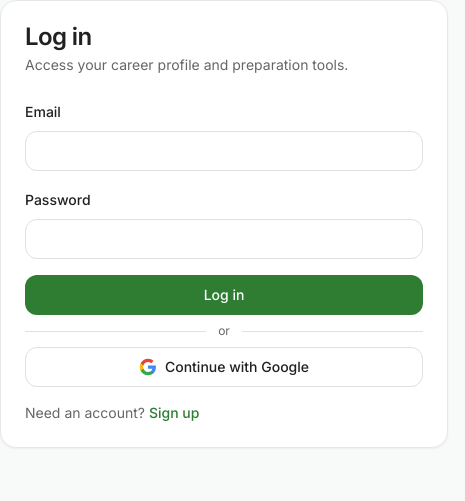
Scenario: LoginForm › shows authentication error from Supabase
Type "jane@example.com" into the field labelled "Email" at {"x": 224, "y": 151}, box [25,131,423,171]
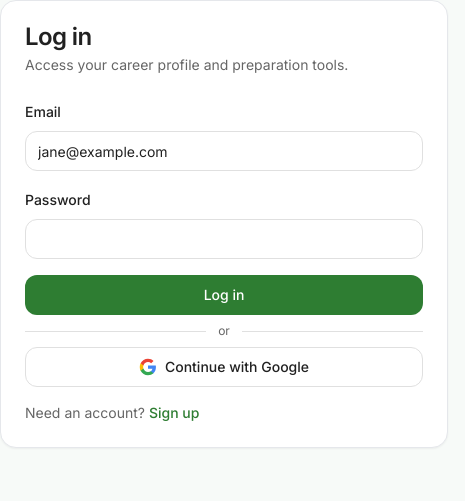
Type "password123" into the password field labelled "Password" at {"x": 224, "y": 239}, box [25,219,423,259]
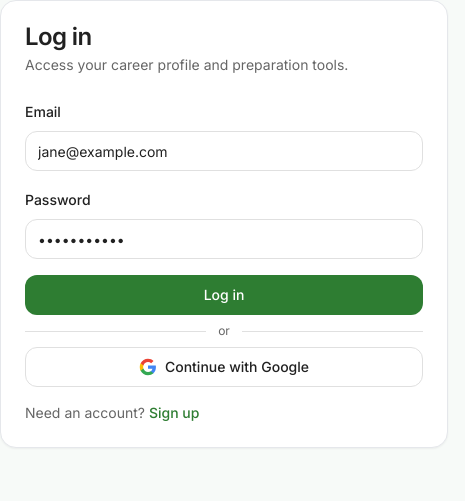
Click the button "Log in" at {"x": 224, "y": 295}, box [25,275,423,315]
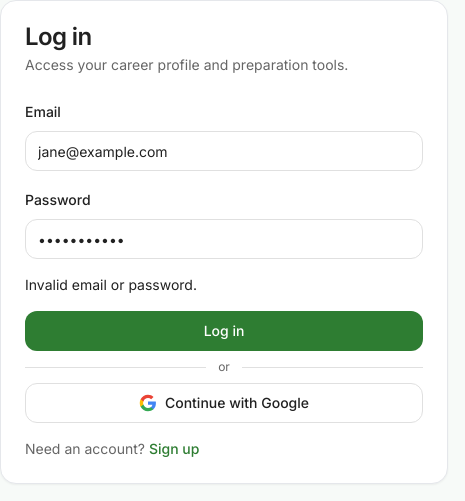
Check: the text "Invalid email or password." is shown, box [25,276,197,293]
